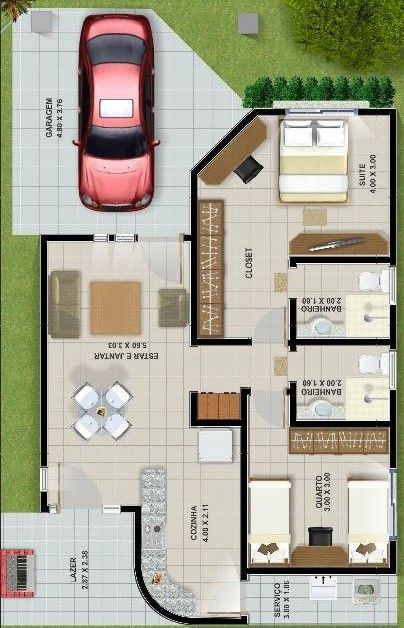room: (36, 230, 199, 514), (189, 105, 404, 271), (239, 418, 401, 578), (288, 255, 397, 349), (289, 335, 398, 429)
